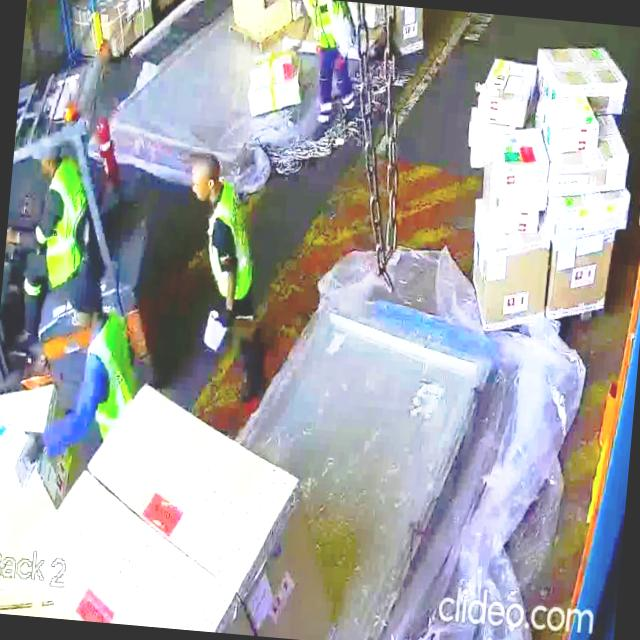Box: (466, 230, 552, 320), (544, 236, 612, 320), (536, 44, 628, 106), (489, 128, 552, 192), (476, 53, 530, 124), (248, 53, 304, 114), (558, 156, 632, 198), (554, 195, 628, 234), (545, 96, 594, 146)
